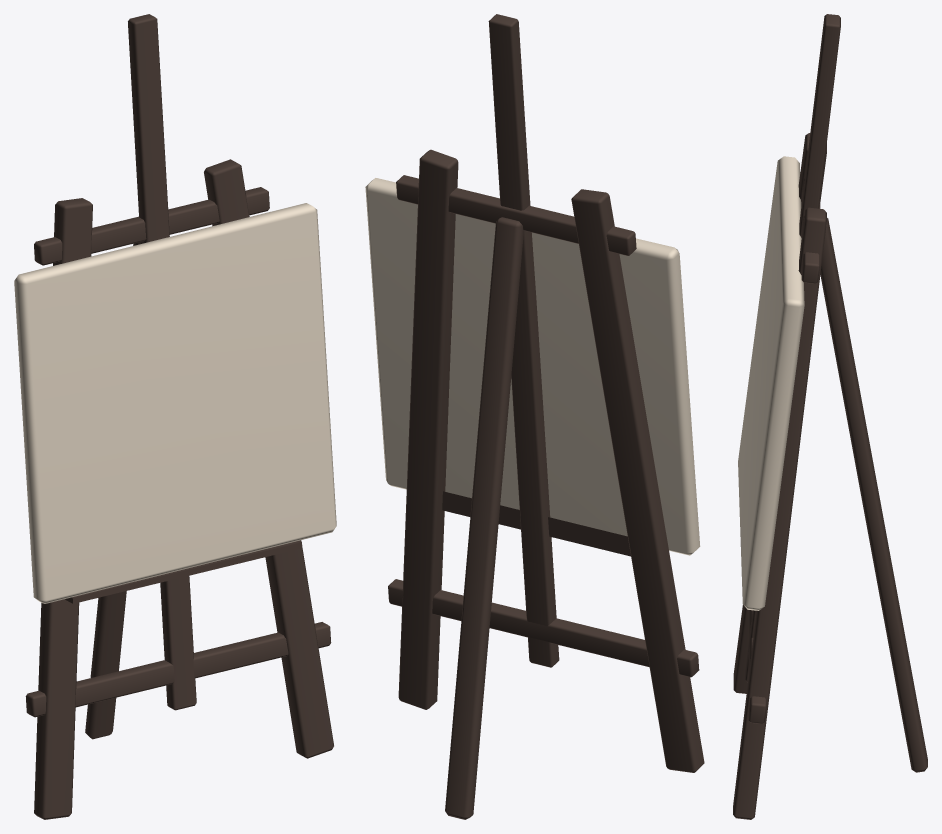
3 views of the same model, side by side, from view 1: azimuth 30°, elevation 25°; view 2: azimuth 150°, elevation 25°; view 3: azimuth 270°, elevation 25° (orthographic). The views are drawn at different scales.
Parts seen in each view (by area): view 1: entertainment.042; view 2: entertainment.042; view 3: entertainment.042.
Part boxes in pixels (x1,y1,x2,y2): entertainment.042: [14, 14, 336, 819]; entertainment.042: [365, 14, 704, 819]; entertainment.042: [733, 14, 927, 819].
Bounding box in the file's own units: 0.98 × 2.32 × 0.5462.
